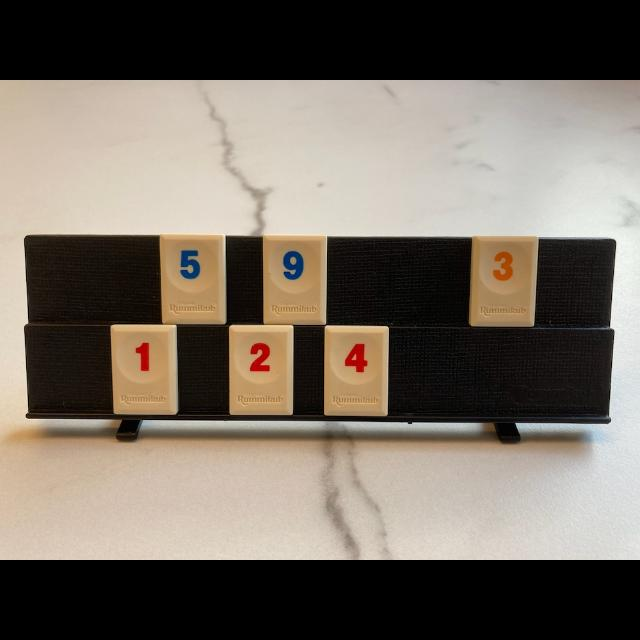blue_5: (161, 235, 225, 324)
blue_9: (264, 235, 328, 325)
orange_3: (469, 236, 538, 326)
red_1: (110, 325, 179, 415)
red_2: (229, 325, 292, 415)
red_4: (324, 325, 389, 416)
